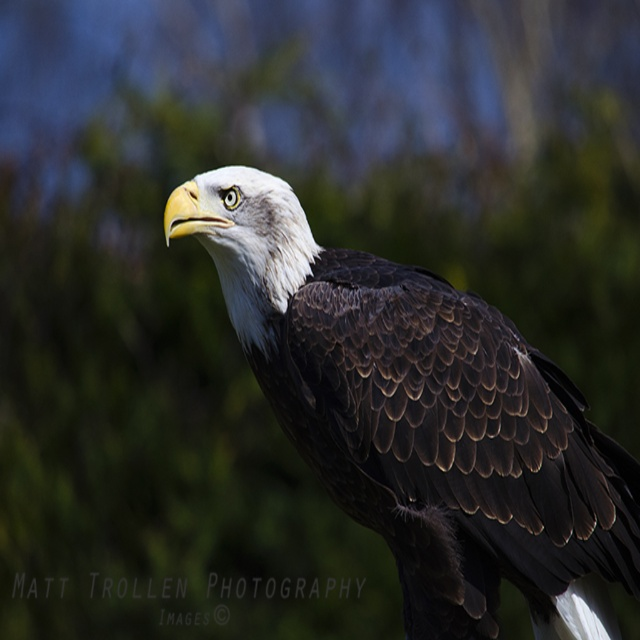Eagle: (161, 162, 639, 639)
